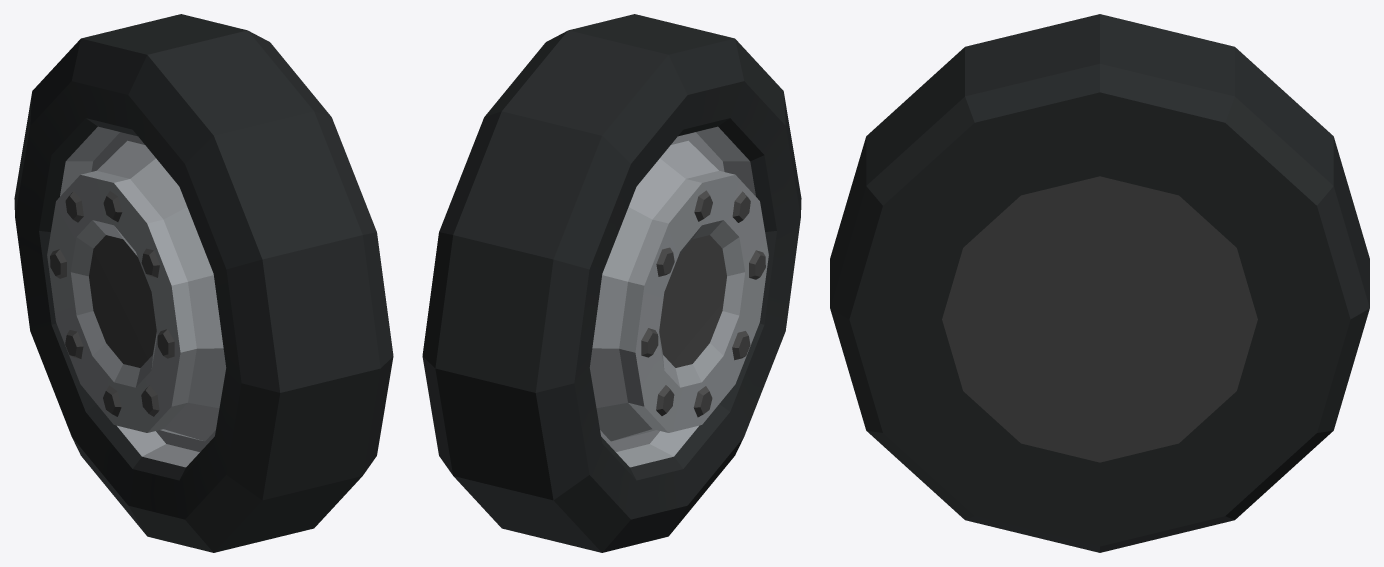
Rendered from SM_Veh_Truck_Wheel_fr_856.obj.
3 views of the same model, side by side, from view 1: azimuth 30°, elevation 25°; view 2: azimuth 150°, elevation 25°; view 3: azimuth 270°, elevation 25° (orthographic).
Visible parts, largest first — view 1: SM_Veh_Truck_Wheel_fr_0; view 2: SM_Veh_Truck_Wheel_fr_0; view 3: SM_Veh_Truck_Wheel_fr_0.
Boxes of the visible parts, bbox=[...] form: SM_Veh_Truck_Wheel_fr_0: bbox=[14, 14, 393, 552]; SM_Veh_Truck_Wheel_fr_0: bbox=[422, 14, 801, 552]; SM_Veh_Truck_Wheel_fr_0: bbox=[830, 14, 1369, 552].
Bounding box in the file's own units: 0.3659 × 1.05 × 1.05.
Materials: 1 (1 with a texture image).
